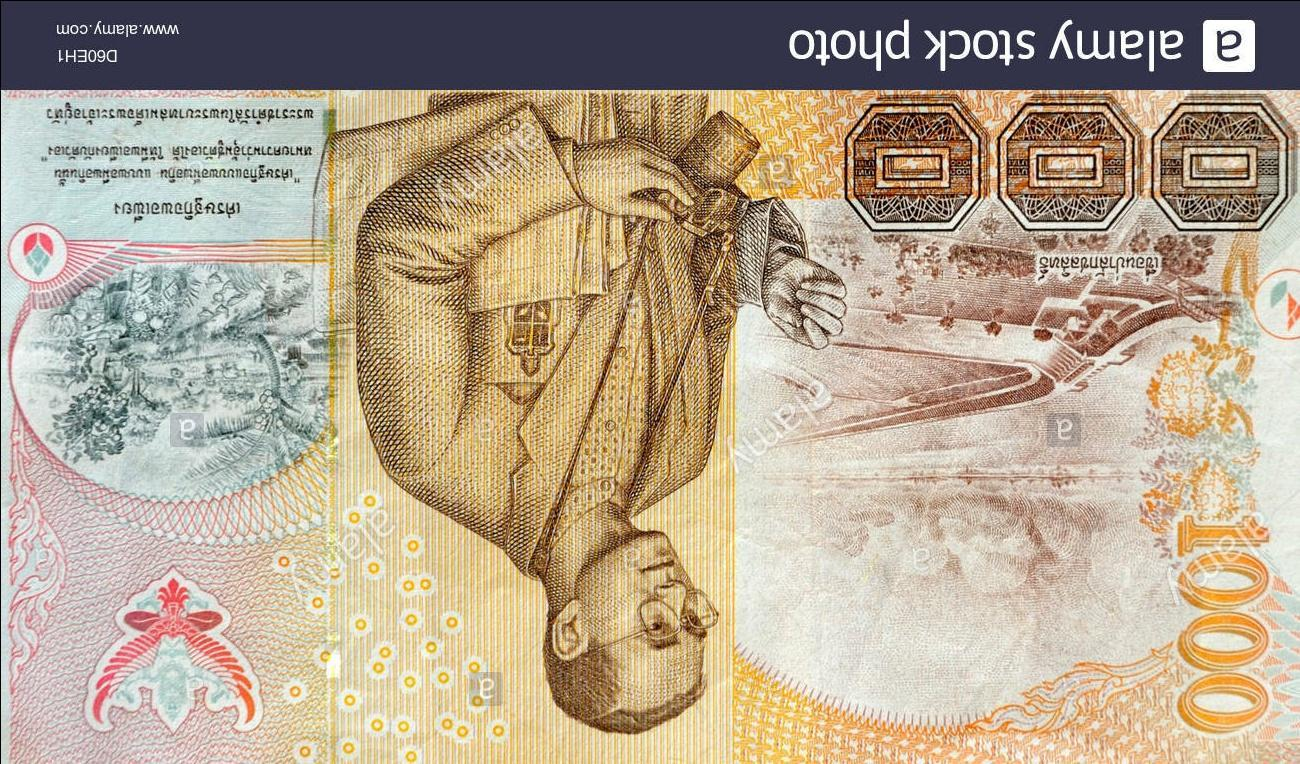1000BahtTai: (0, 100, 1300, 764)
